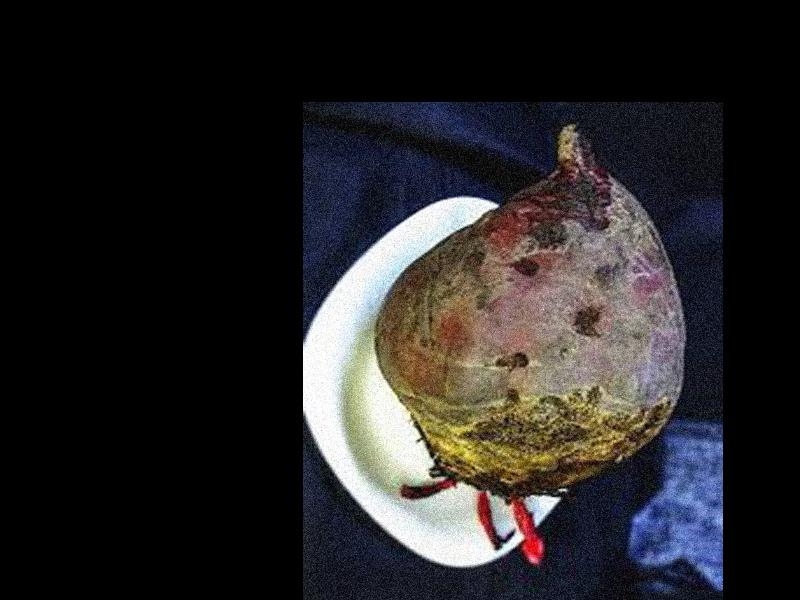Beet: (375, 126, 681, 564)
